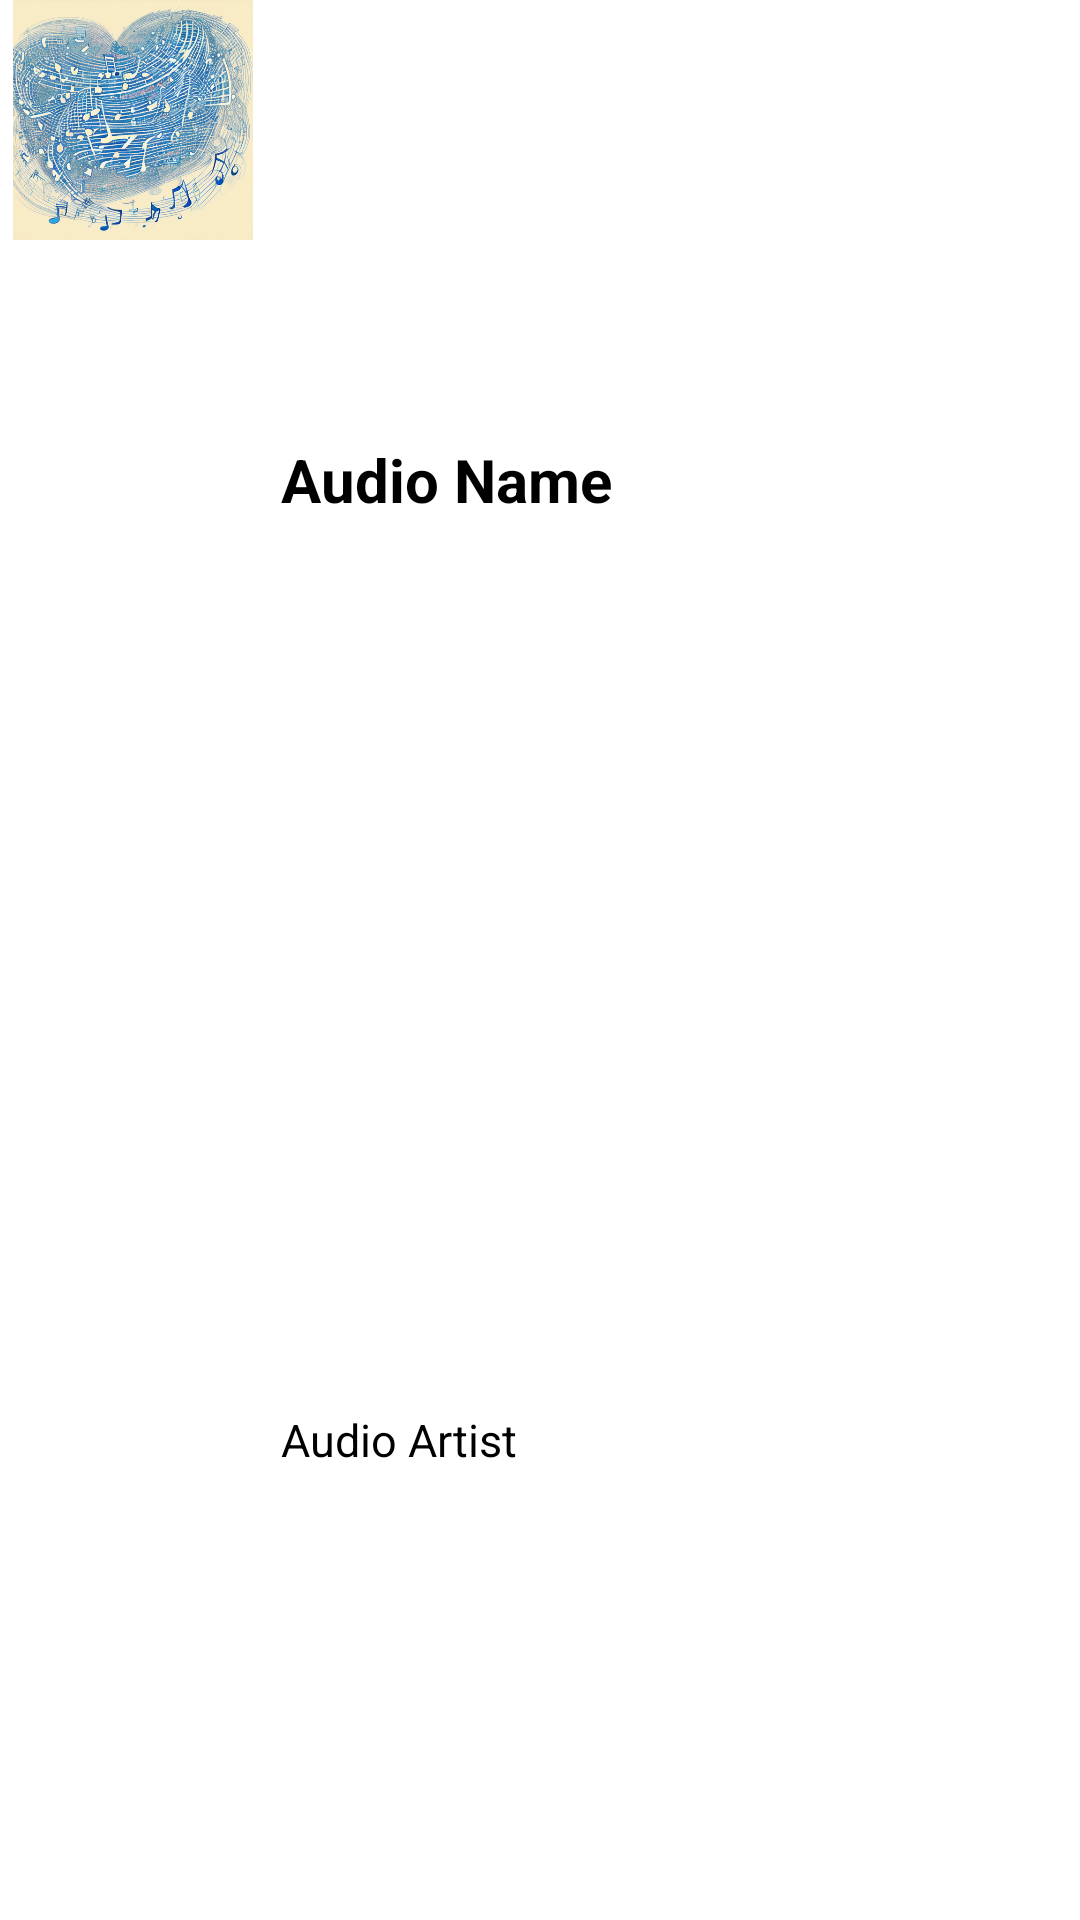

Screen size 1080w x 1920h. Icon name, then its box in pixels as (x1, y1, x2, y2):
musical node: (13, 0, 253, 240)
